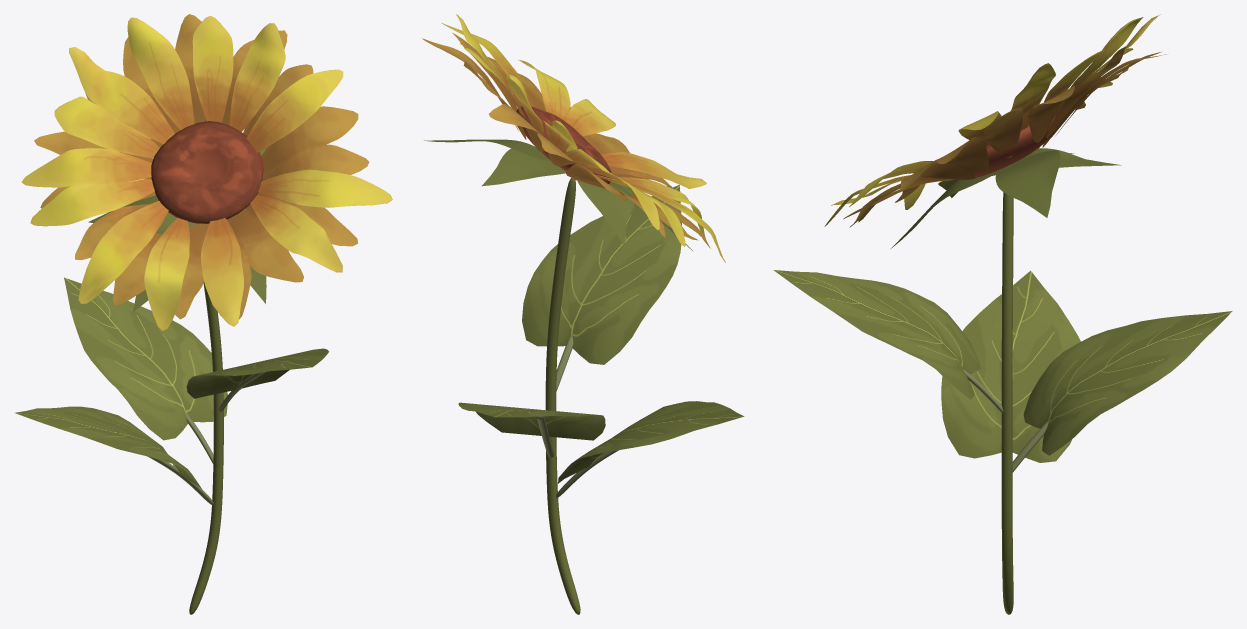
Rendered from sunflower.fbx.
3 renders of one model, left to right at view 1: azimuth 30°, elevation 25°; view 2: azimuth 150°, elevation 25°; view 3: azimuth 270°, elevation 25°, orthographic. The views are drawn at different scales.
Parts seen in each view (by area): view 1: Mesh_Plane_018, Mesh_Plane_019, Mesh_Plane_001, Mesh_Sphere_010, Mesh_Plane_020, Mesh_Cube_005, Mesh_Plane_007, Mesh_Plane_017; view 2: Mesh_Plane_007, Mesh_Plane_018, Mesh_Plane_019, Mesh_Cube_005, Mesh_Plane_020, Mesh_Plane_017, Mesh_Plane_001, Mesh_Sphere_010; view 3: Mesh_Plane_001, Mesh_Plane_020, Mesh_Plane_007, Mesh_Plane_019, Mesh_Plane_018, Mesh_Cube_005, Mesh_Plane_017, Mesh_Sphere_010.
Boxes of the visible parts, x1=… form: Mesh_Plane_018: x1=21, y1=16, x2=392, y2=331; Mesh_Plane_019: x1=34, y1=14, x2=369, y2=319; Mesh_Plane_001: x1=64, y1=277, x2=227, y2=463; Mesh_Sphere_010: x1=151, y1=121, x2=263, y2=223; Mesh_Plane_020: x1=14, y1=406, x2=213, y2=505; Mesh_Cube_005: x1=189, y1=282, x2=223, y2=614; Mesh_Plane_007: x1=186, y1=348, x2=328, y2=411; Mesh_Plane_017: x1=88, y1=147, x2=266, y2=312; Mesh_Plane_007: x1=522, y1=184, x2=681, y2=391; Mesh_Plane_018: x1=441, y1=14, x2=725, y2=262; Mesh_Plane_019: x1=422, y1=33, x2=710, y2=248; Mesh_Cube_005: x1=545, y1=177, x2=580, y2=614; Mesh_Plane_020: x1=556, y1=401, x2=744, y2=498; Mesh_Plane_017: x1=424, y1=139, x2=692, y2=250; Mesh_Plane_001: x1=458, y1=402, x2=605, y2=457; Mesh_Sphere_010: x1=516, y1=106, x2=611, y2=183; Mesh_Plane_001: x1=1012, y1=311, x2=1232, y2=472; Mesh_Plane_020: x1=941, y1=270, x2=1080, y2=462; Mesh_Plane_007: x1=773, y1=270, x2=1003, y2=413; Mesh_Plane_019: x1=843, y1=46, x2=1166, y2=227; Mesh_Plane_018: x1=824, y1=14, x2=1160, y2=226; Mesh_Cube_005: x1=1001, y1=192, x2=1013, y2=614; Mesh_Plane_017: x1=891, y1=148, x2=1121, y2=248; Mesh_Sphere_010: x1=973, y1=115, x2=1055, y2=177.
Size of the model in its own units: 308 by 530 by 366.
Materials: 19 (18 with a texture image).
